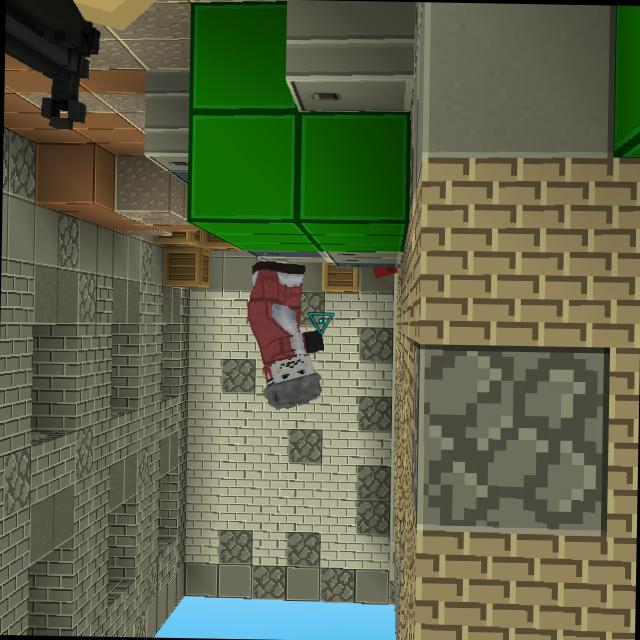enemy: (244, 263, 325, 416)
